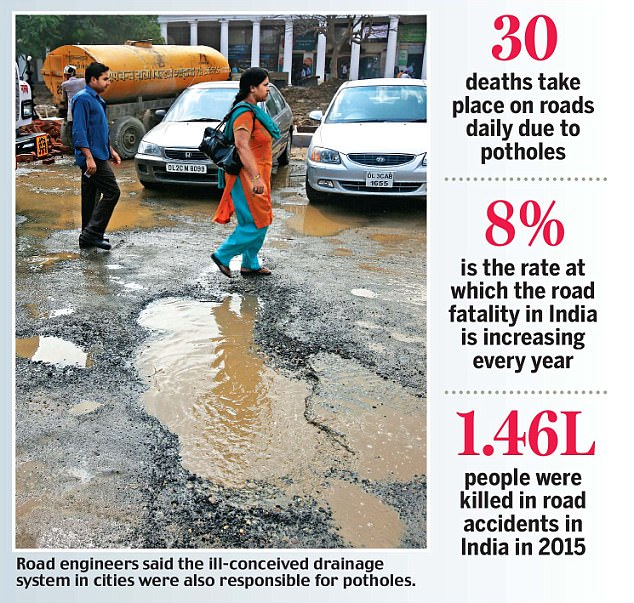pothole: (109, 274, 440, 561), (19, 303, 91, 388)
